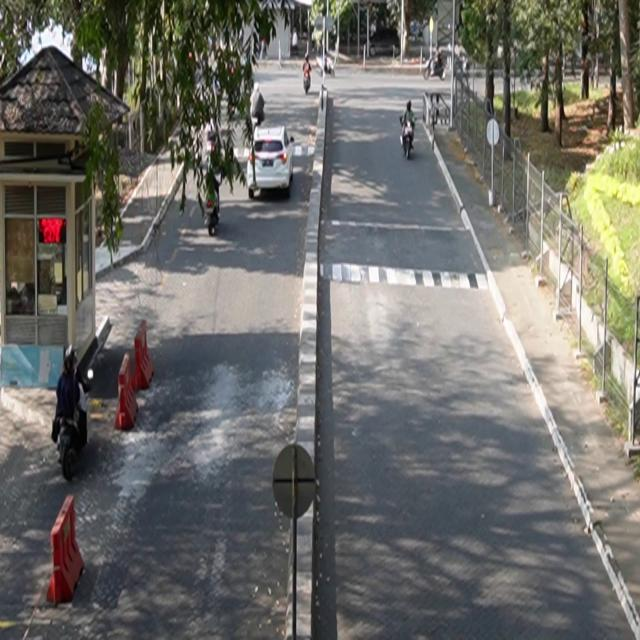car: (248, 125, 296, 199)
